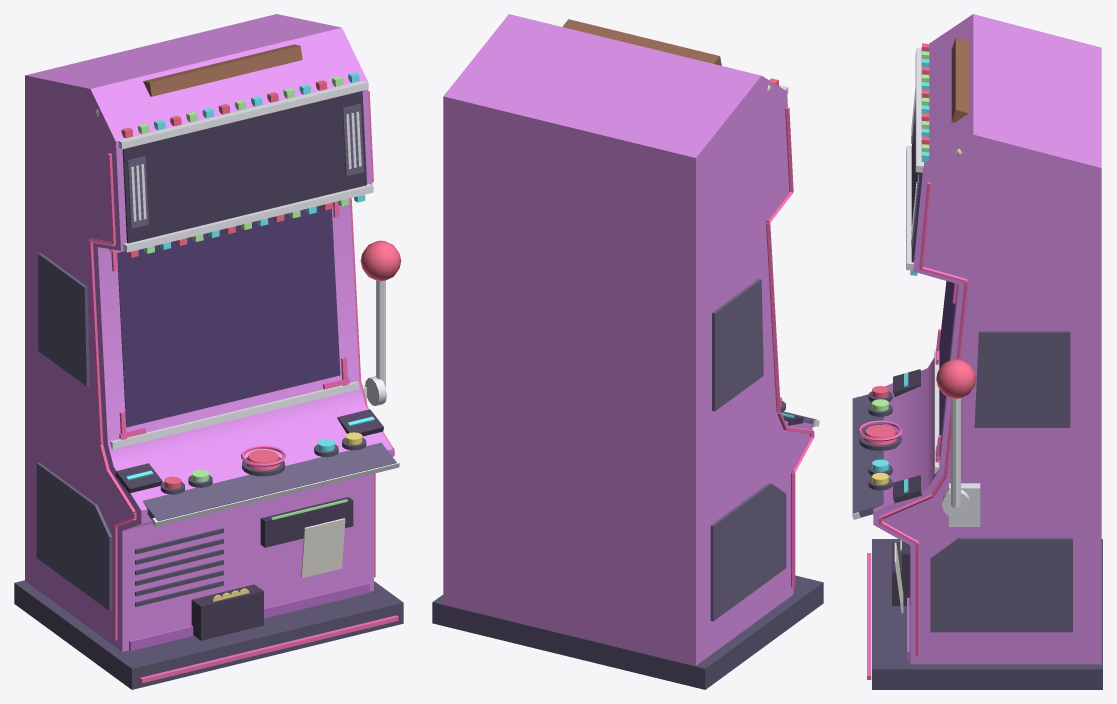
The model's file is slots.glb.
The picture shows the model from 3 angles, left to right: view 1: azimuth 30°, elevation 25°; view 2: azimuth 150°, elevation 25°; view 3: azimuth 270°, elevation 25°; orthographic projection. The views are drawn at different scales.
Parts seen in each view (by area): view 1: shell, displayBack, headerFace, plinth, sidePlaque-1, deckPlate, headerTrim, vent, cup, lampBar, sideNeon-1, printer (+16 smaller); view 2: shell, sidePlaque-1, plinth, sideNeon-1, lampBar; view 3: shell, sidePlaque1, plinth, sideNeon1, deckPlate, headerTrim, lampBar, leverBracket, leverOrb, displayBack, leverArm, readers (+7 smaller).
Boxes of the visible parts, <box> form: shell: <box>25,14,392,651</box>; displayBack: <box>117,205,340,427</box>; headerFace: <box>122,91,366,243</box>; plinth: <box>14,580,403,689</box>; sidePlaque-1: <box>36,253,112,610</box>; deckPlate: <box>143,442,396,521</box>; headerTrim: <box>118,80,373,252</box>; vent: <box>135,528,223,606</box>; cup: <box>191,584,263,640</box>; lampBar: <box>143,44,302,96</box>; sideNeon-1: <box>88,153,136,640</box>; printer: <box>260,497,353,547</box>; shell: <box>443,14,812,665</box>; sidePlaque-1: <box>710,279,786,621</box>; plinth: <box>432,575,823,689</box>; sideNeon-1: <box>766,107,814,587</box>; lampBar: <box>562,19,721,65</box>; shell: <box>873,14,1101,664</box>; sidePlaque1: <box>930,331,1072,632</box>; plinth: <box>872,539,1102,689</box>; sideNeon1: <box>878,182,968,656</box>; deckPlate: <box>853,394,883,517</box>; headerTrim: <box>906,47,923,270</box>; lampBar: <box>951,37,968,122</box>; leverBracket: <box>942,483,980,526</box>; leverOrb: <box>936,359,975,398</box>; displayBack: <box>939,281,957,449</box>; leverArm: <box>951,398,960,507</box>; readers: <box>893,369,921,503</box>.
Size of the model in its own units: 2.46 by 4.26 by 1.76.
